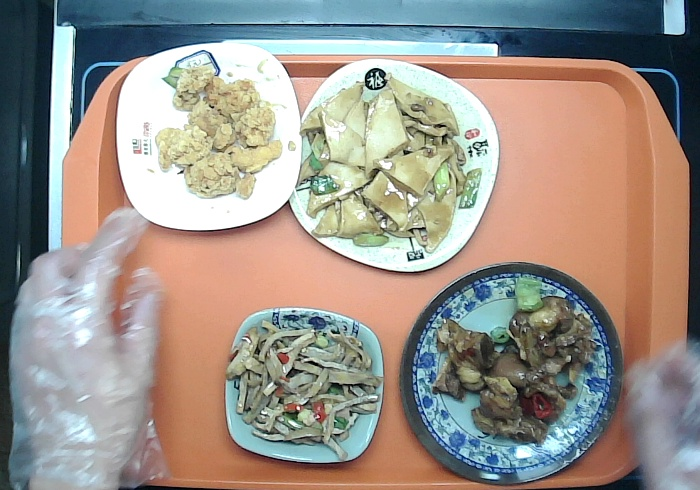NLDX-Bai_Se_Xiao_Fang_Die: (117, 40, 304, 232)
NLDX-Fu_Zi_Fang_Die: (289, 59, 502, 273)
NLDX-Qing_Hua_Xiao_Fang_Die: (225, 306, 385, 463)
NLDX-Qing_Hua_Yuan_Die: (401, 262, 624, 485)
